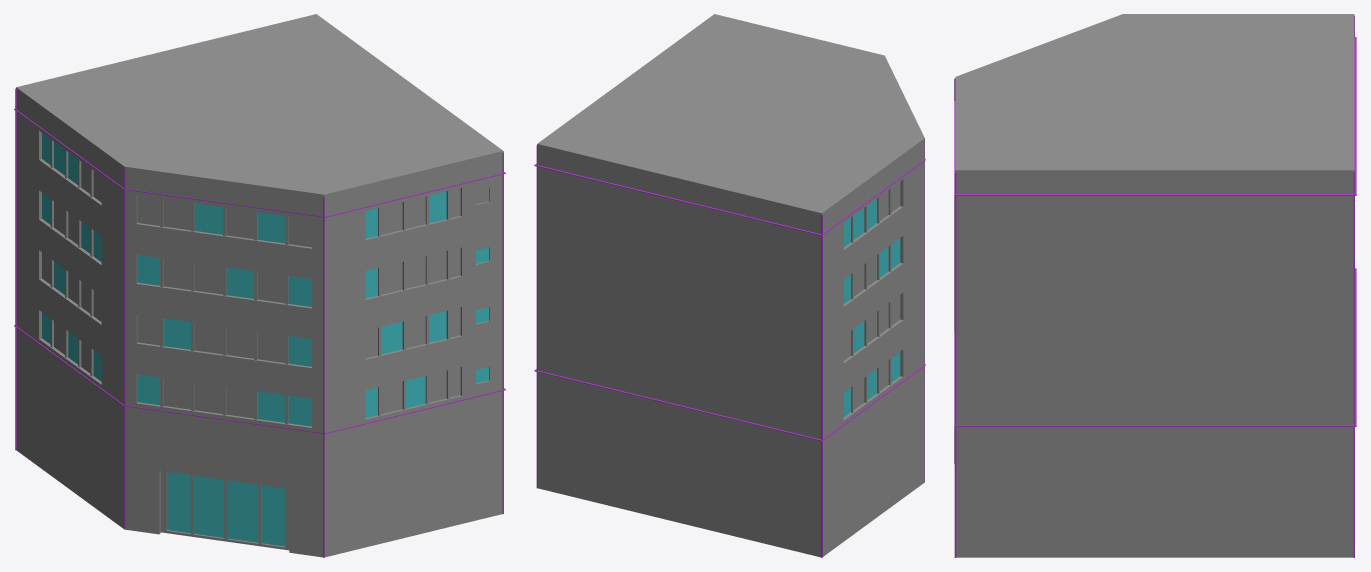
File: BuildingS_03_var2.fbx
3 views of the same model, side by side, from view 1: azimuth 30°, elevation 25°; view 2: azimuth 150°, elevation 25°; view 3: azimuth 270°, elevation 25° (orthographic). The views are drawn at different scales.
Parts seen in each view (by area): view 1: BuildingS_03_var2; view 2: BuildingS_03_var2; view 3: BuildingS_03_var2.
Boxes of the visible parts, x1,y1,x2,y2 form: BuildingS_03_var2: [14, 14, 505, 557]; BuildingS_03_var2: [534, 14, 925, 557]; BuildingS_03_var2: [954, 14, 1356, 557].
Size of the model in its own units: 0.3886 by 0.4444 by 0.4184.
